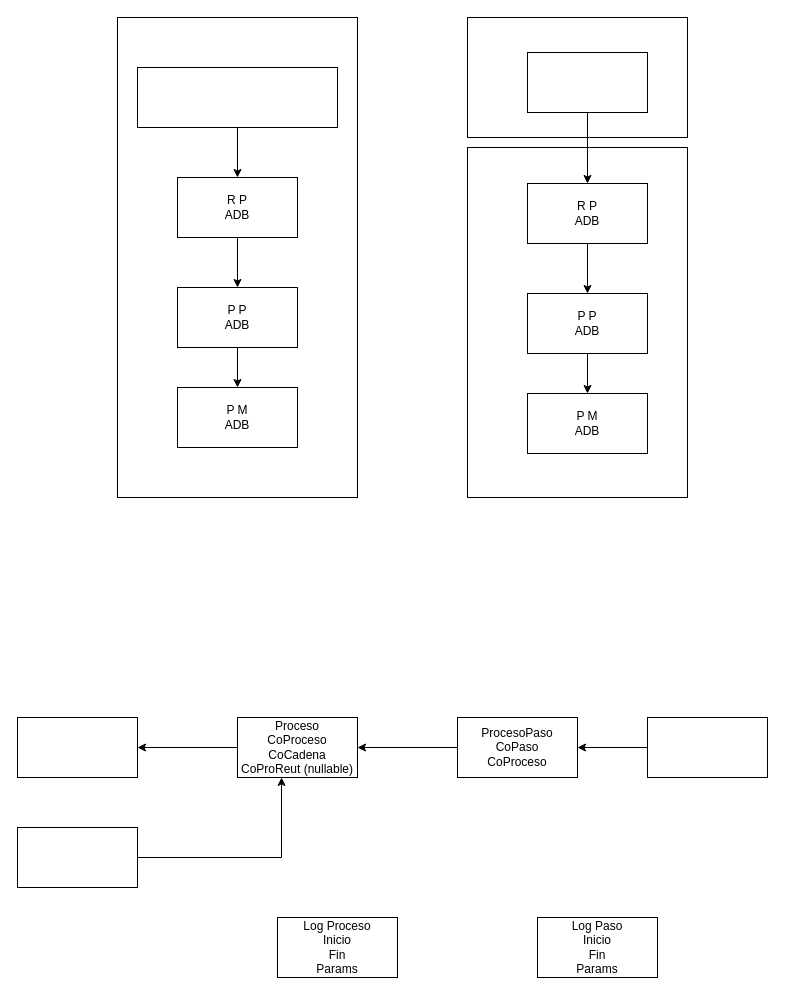
Some shapes in this 785 by 995 pixel diagram are drawn without their labels. Here are the shapes that lost their labels. From the top down, the centre of each, then its label:
At point (237, 97): "L R KUB FANPRO_DIS (DISCOM)".
At point (587, 82): "L R KUB".
At point (77, 747): "Cadena".
At point (707, 747): "Pasos".
At point (77, 857): "Proceso Plantilla".
